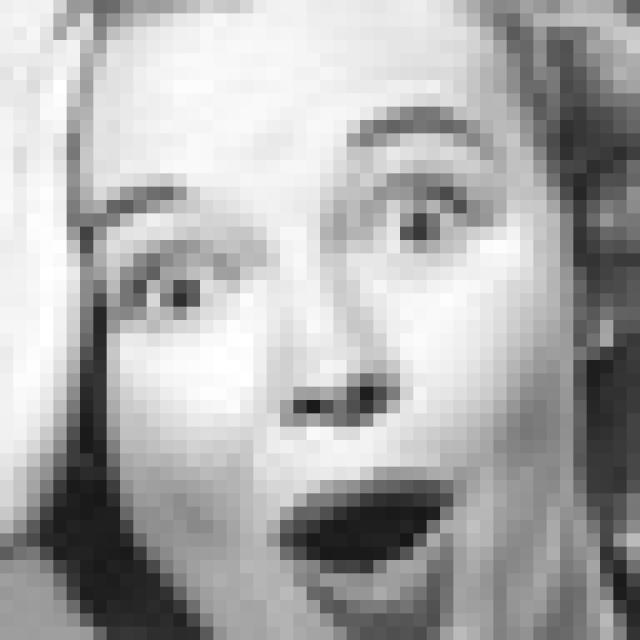surprise: (80, 97, 513, 640)
